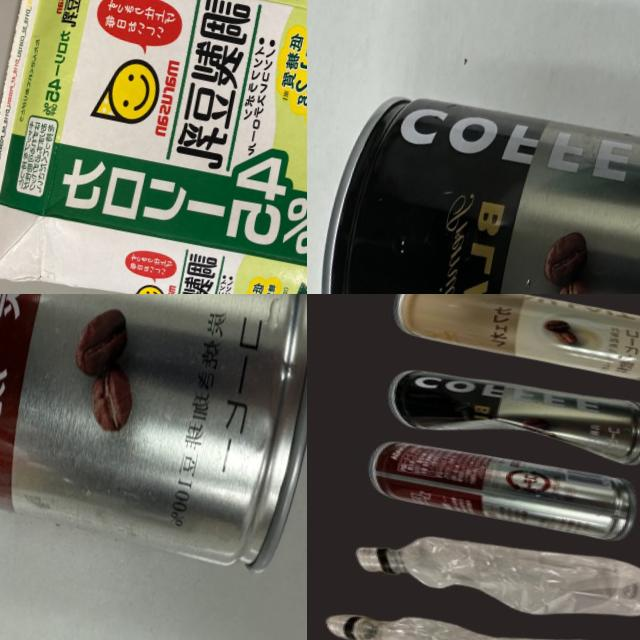Aluminium Foil: (0, 0, 307, 294)
Can: (0, 294, 307, 566), (307, 73, 640, 294), (358, 432, 640, 545), (375, 355, 640, 471), (387, 294, 640, 389)
Transparent Plastic Bottle: (346, 515, 640, 638), (315, 591, 619, 640)
